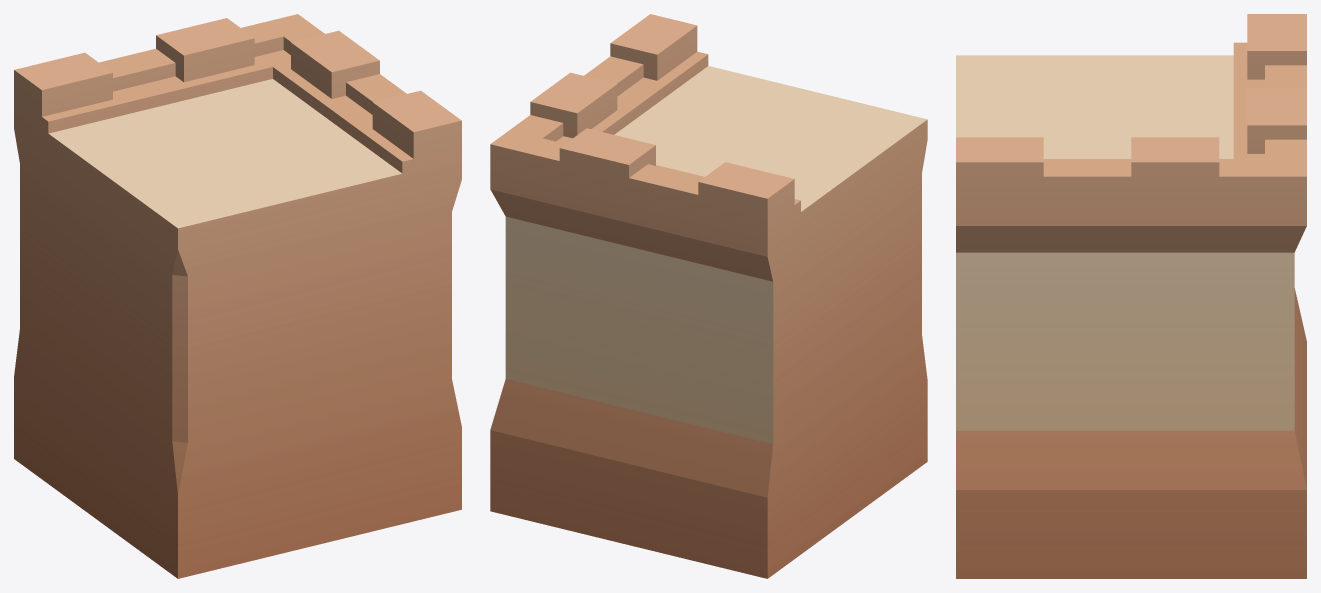
Rendered from wall-corner-half.obj.
3 renders of one model, left to right at view 1: azimuth 30°, elevation 25°; view 2: azimuth 150°, elevation 25°; view 3: azimuth 270°, elevation 25°, orthographic. The views are drawn at different scales.
Parts seen in each view (by area): view 1: wall-corner-half; view 2: wall-corner-half; view 3: wall-corner-half.
Part boxes in pixels (<box>): wall-corner-half: <box>14,14,461,578</box>; wall-corner-half: <box>490,14,927,578</box>; wall-corner-half: <box>956,14,1306,578</box>.
Bounding box in the file's own units: 1 × 1.31 × 1.
1 material, 1 textured.
